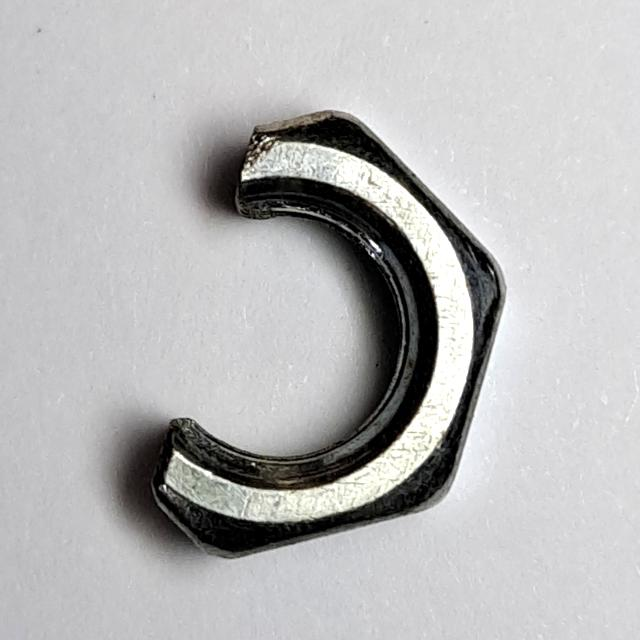Fracture: (139, 89, 521, 578)
